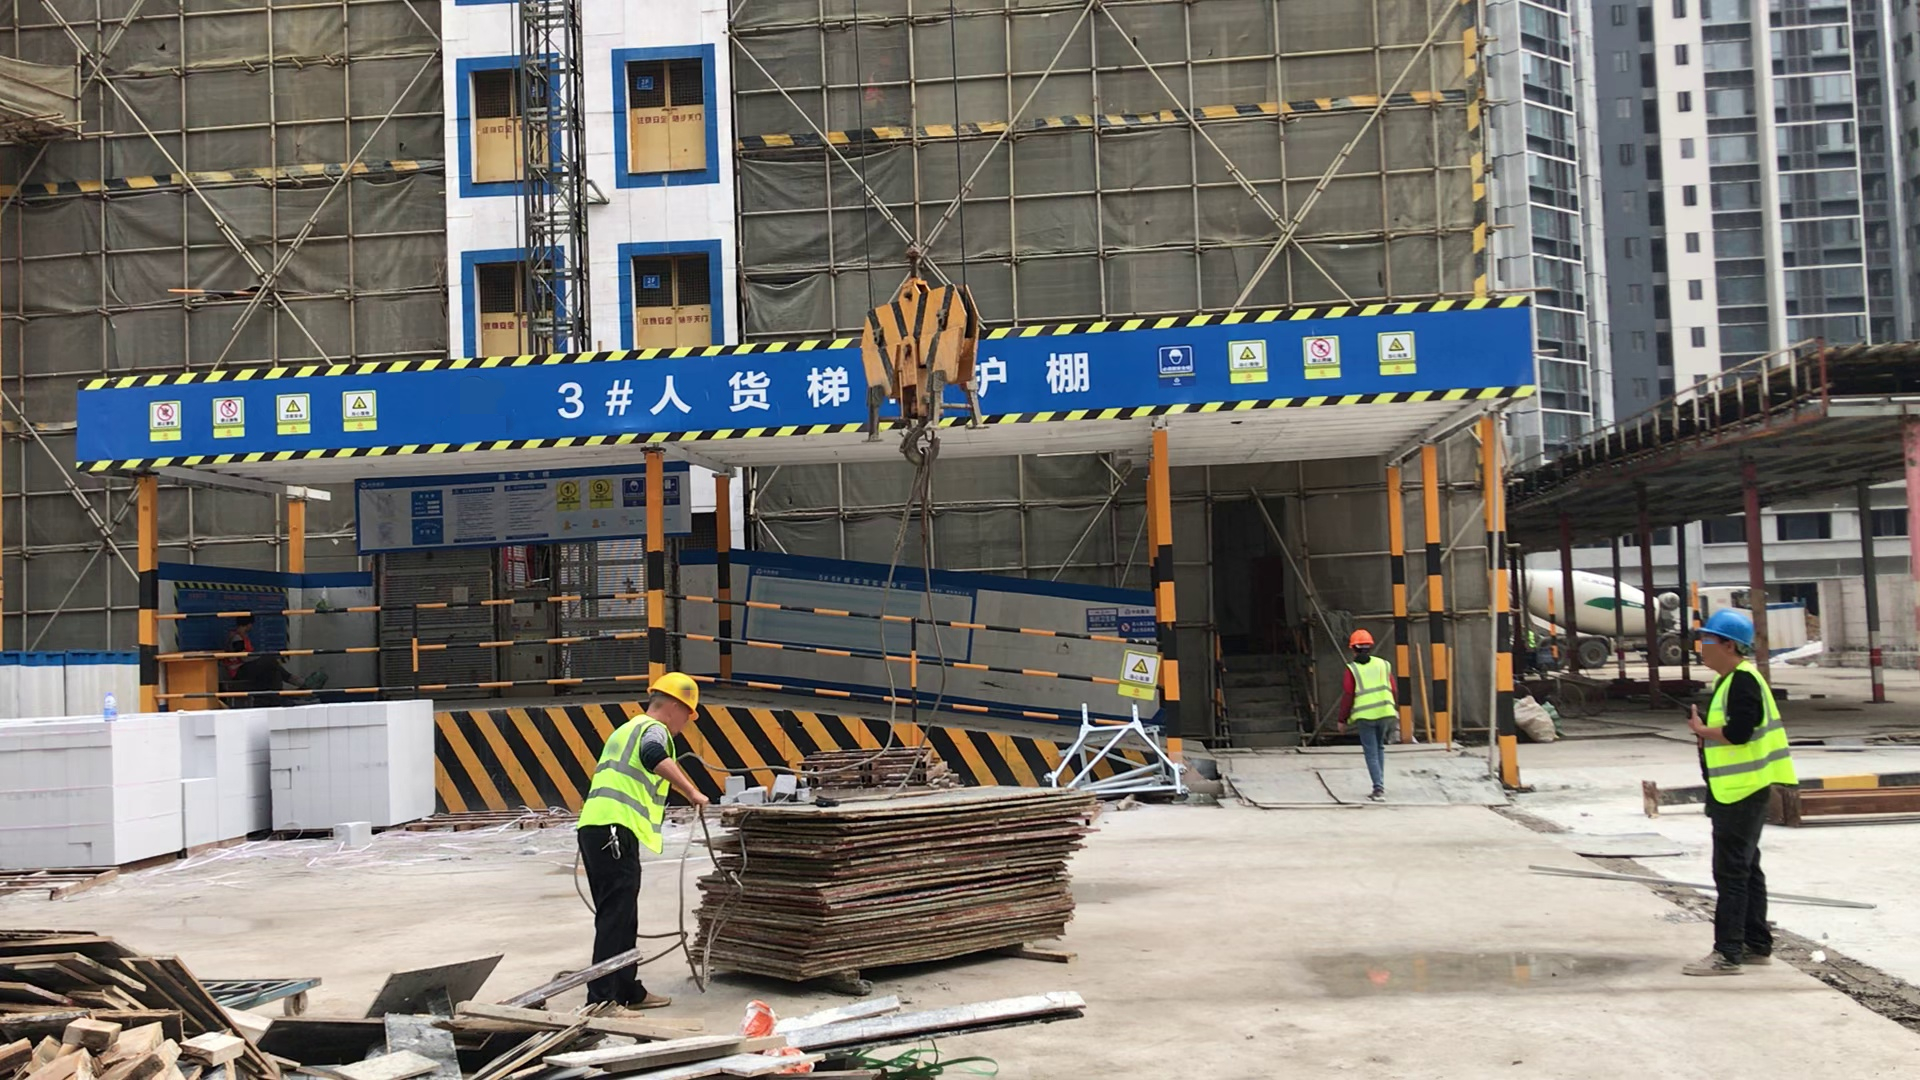board: (698, 788, 1099, 975)
brick: (4, 699, 436, 872)
helmet: (646, 669, 703, 720), (1694, 606, 1755, 652), (1350, 628, 1374, 646)
hook: (861, 275, 982, 465)
person: (582, 669, 714, 1022), (1678, 605, 1791, 974), (1340, 626, 1412, 805)
slogan: (1146, 329, 1423, 380), (148, 390, 383, 441), (554, 475, 684, 538), (1087, 603, 1159, 639), (1117, 646, 1162, 702)
vest: (1694, 657, 1790, 803), (580, 712, 671, 854), (1347, 658, 1399, 727)
